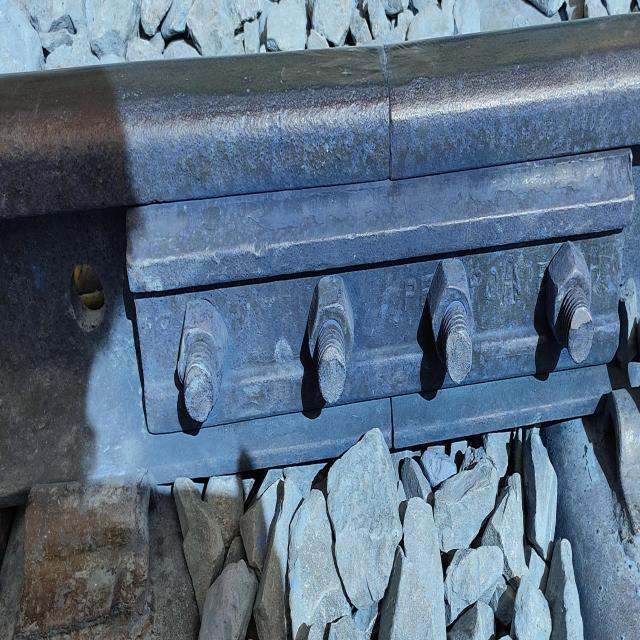Good Joint: (125, 136, 637, 434)
